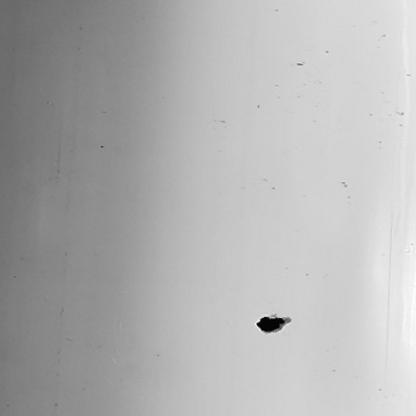kongdong: (251, 310, 301, 340)
